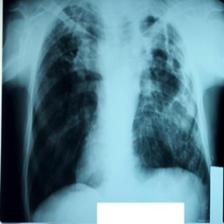tuberculosis: (26, 1, 208, 224)
